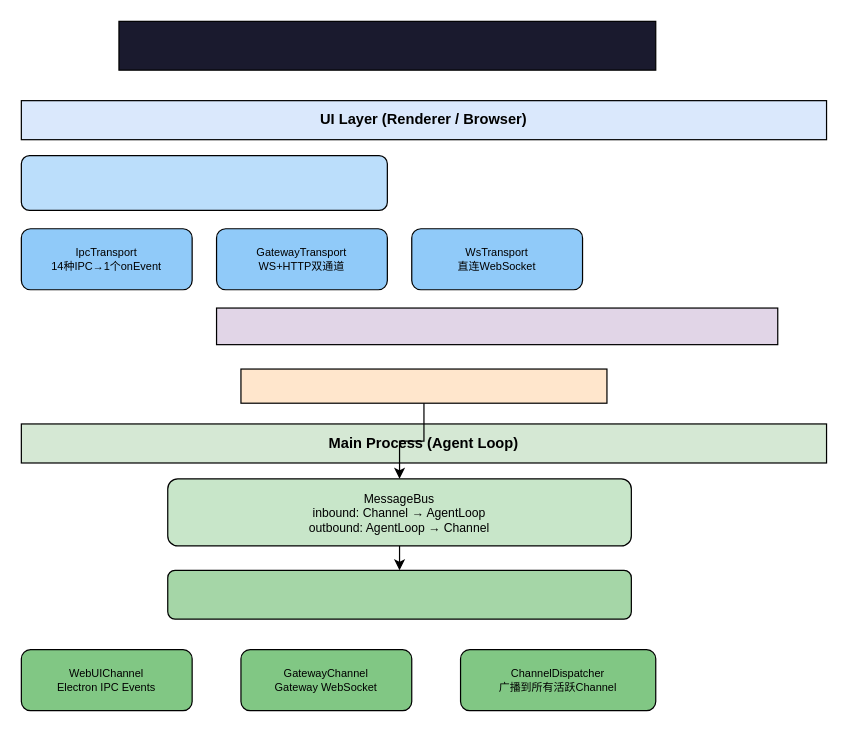
Image size: 848x732. Some labels were removed from this diagram. The box of each missing label's shape, as (x1, y1, x2, y2) in pixels:
AgentTransport (interface) attach() + sendMessage(): (20, 154, 387, 210)
BaseChannel (interface) 9种send*()方法: (167, 569, 631, 619)
⬇ IPC 或 WebSocket ⬇: (240, 368, 607, 403)
⭐ createAgentTransport() 自动检测：!!window.catbuddy → desktop | web: (215, 307, 778, 345)
二层抽象 + 一个总线的三段式传输层: (118, 20, 656, 70)
